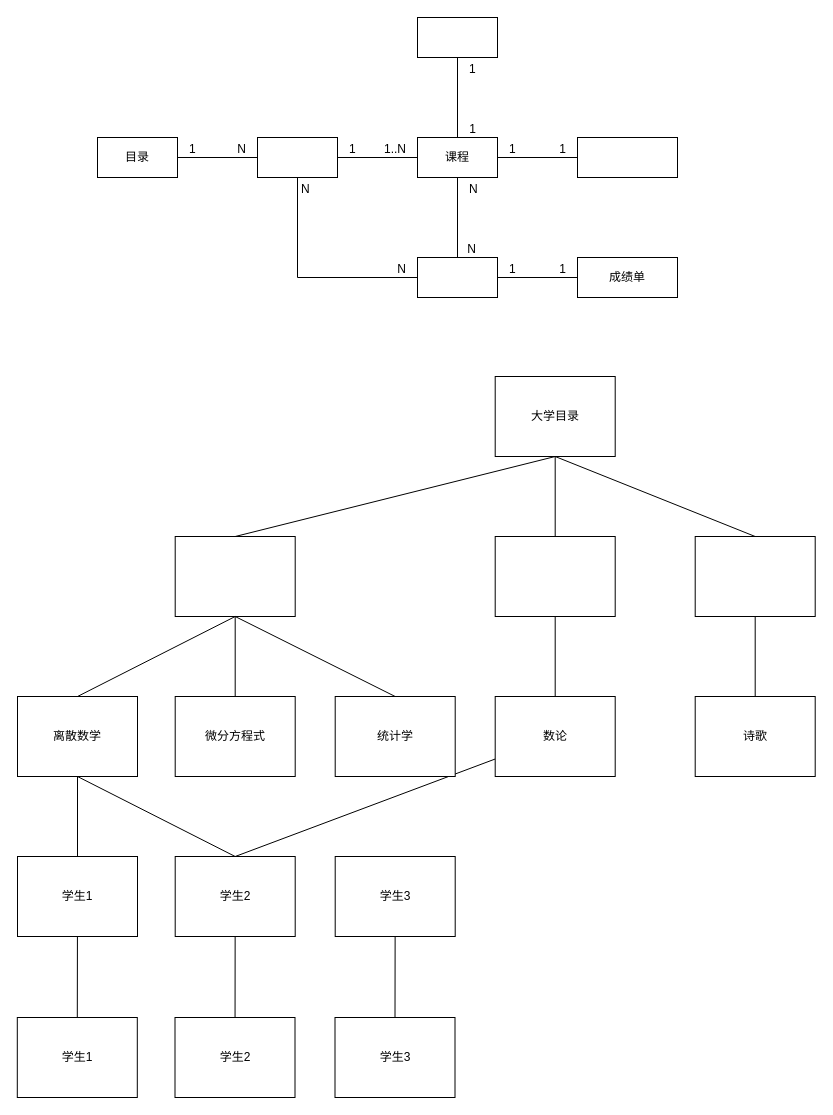
Some shapes in this 833 by 1115 pixel diagram are drawn without their labels. Each missing label, with the centre of its shape:
奖励机制: [457,37]
学生: [457,277]
应用数学课程表: [234,576]
测试: [627,157]
纯数学课程表: [554,576]
英语课程表: [754,576]
课程表: [297,157]
